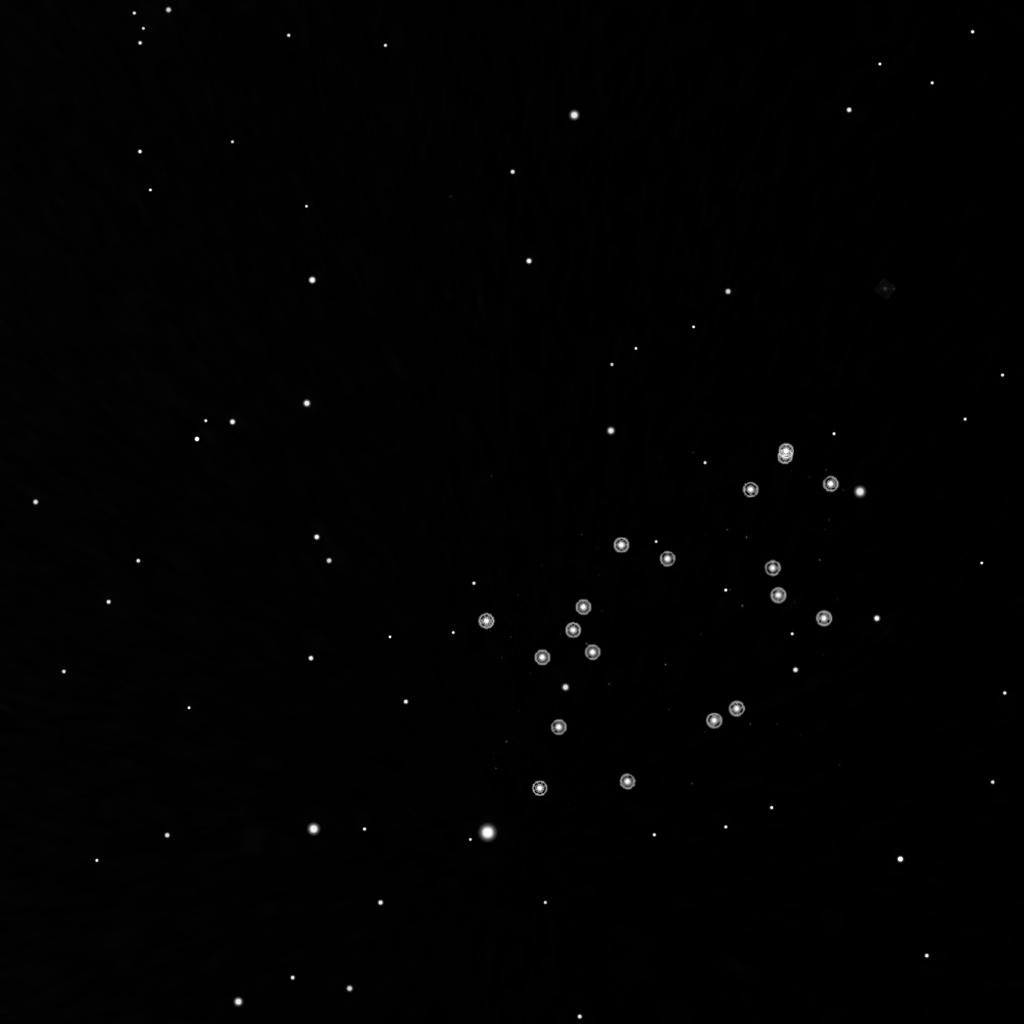canis_major: (525, 532, 681, 673)
